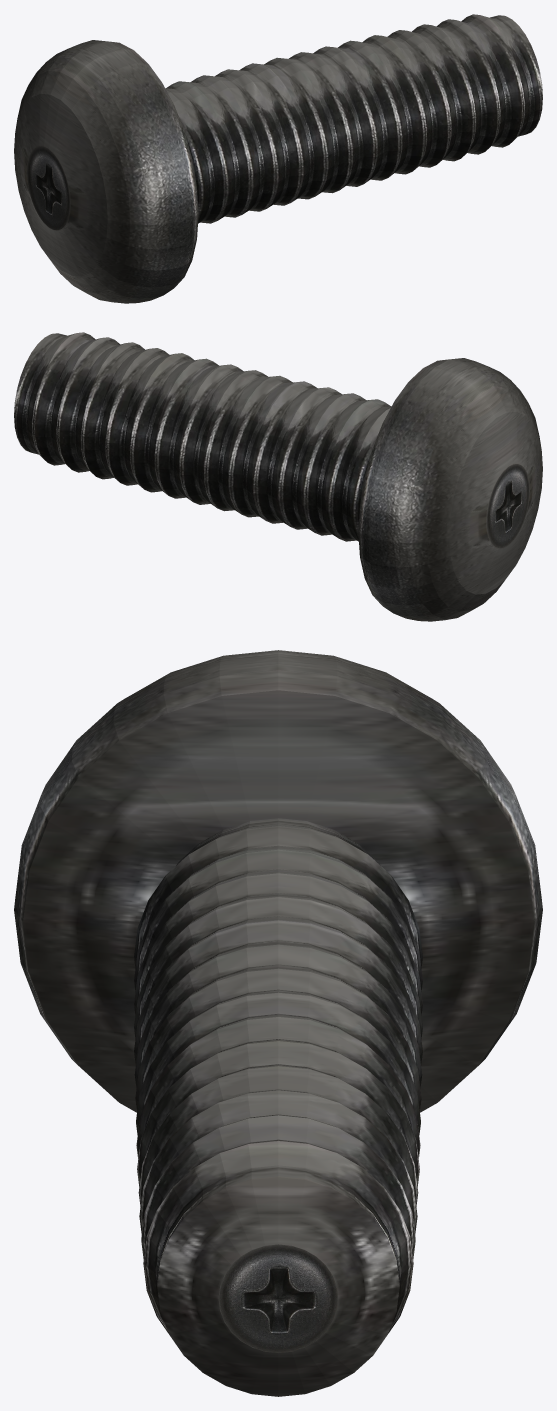
Rendered from screw.glb.
3 renders of one model, top to bottom at view 1: azimuth 30°, elevation 25°; view 2: azimuth 150°, elevation 25°; view 3: azimuth 270°, elevation 25°, orthographic. The views are drawn at different scales.
Visible parts, largest first — view 1: screw; view 2: screw; view 3: screw.
Part boxes in pixels (x1,y1,x2,y2): screw: [14, 14, 542, 303]; screw: [14, 332, 542, 621]; screw: [14, 650, 542, 1396].
Size of the model in its own units: 7.59 by 3.69 by 3.69.
Materials: 1 (1 with a texture image).
